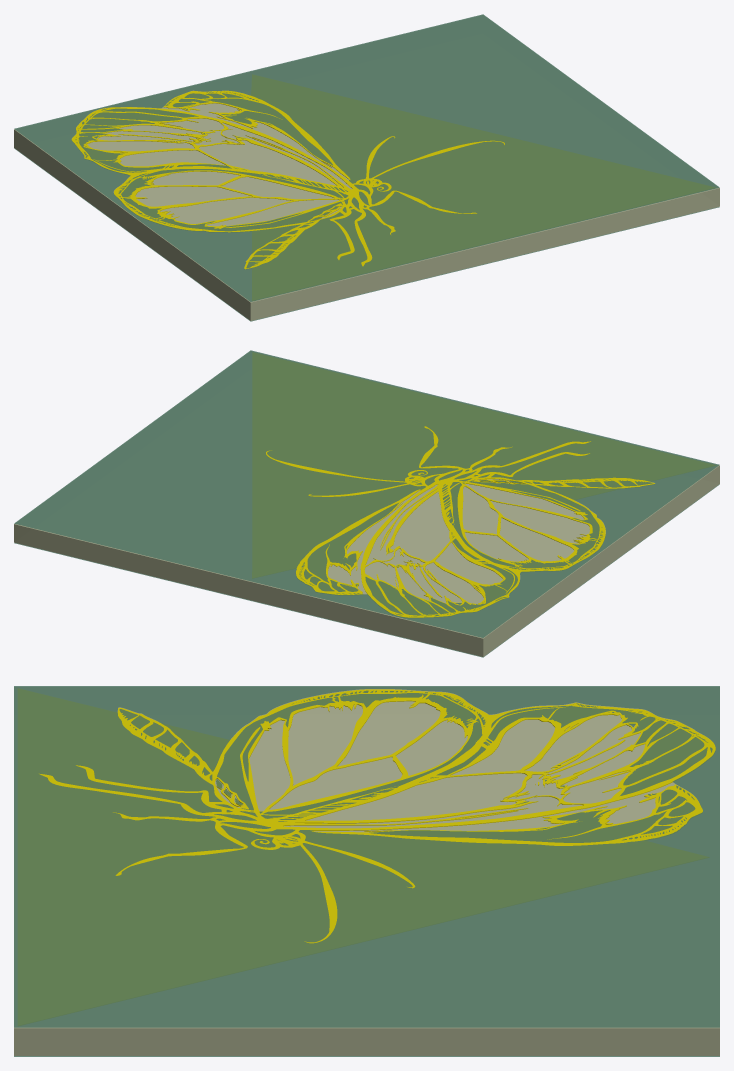
The model's file is mch2022-butterfly.glb.
3 renders of one model, top to bottom at view 1: azimuth 30°, elevation 25°; view 2: azimuth 150°, elevation 25°; view 3: azimuth 270°, elevation 25°, orthographic. The views are drawn at different scales.
Visible parts, largest first — view 1: =>[0:1:1:5], =>[0:1:1:7], =>[0:1:1:2]; view 2: =>[0:1:1:5], =>[0:1:1:7], =>[0:1:1:2]; view 3: =>[0:1:1:5], =>[0:1:1:7], =>[0:1:1:2].
Boxes of the visible parts, <box> form: =>[0:1:1:5]: <box>14,14,719,321</box>; =>[0:1:1:7]: <box>14,15,719,320</box>; =>[0:1:1:2]: <box>71,75,714,300</box>; =>[0:1:1:5]: <box>14,350,719,657</box>; =>[0:1:1:7]: <box>14,351,719,656</box>; =>[0:1:1:2]: <box>252,353,715,617</box>; =>[0:1:1:5]: <box>14,686,719,1056</box>; =>[0:1:1:7]: <box>14,687,719,1055</box>; =>[0:1:1:2]: <box>18,689,715,1025</box>.
Size of the model in its own units: 0.0403 by 0.00163 by 0.0352.
4 materials, 4 textured.
